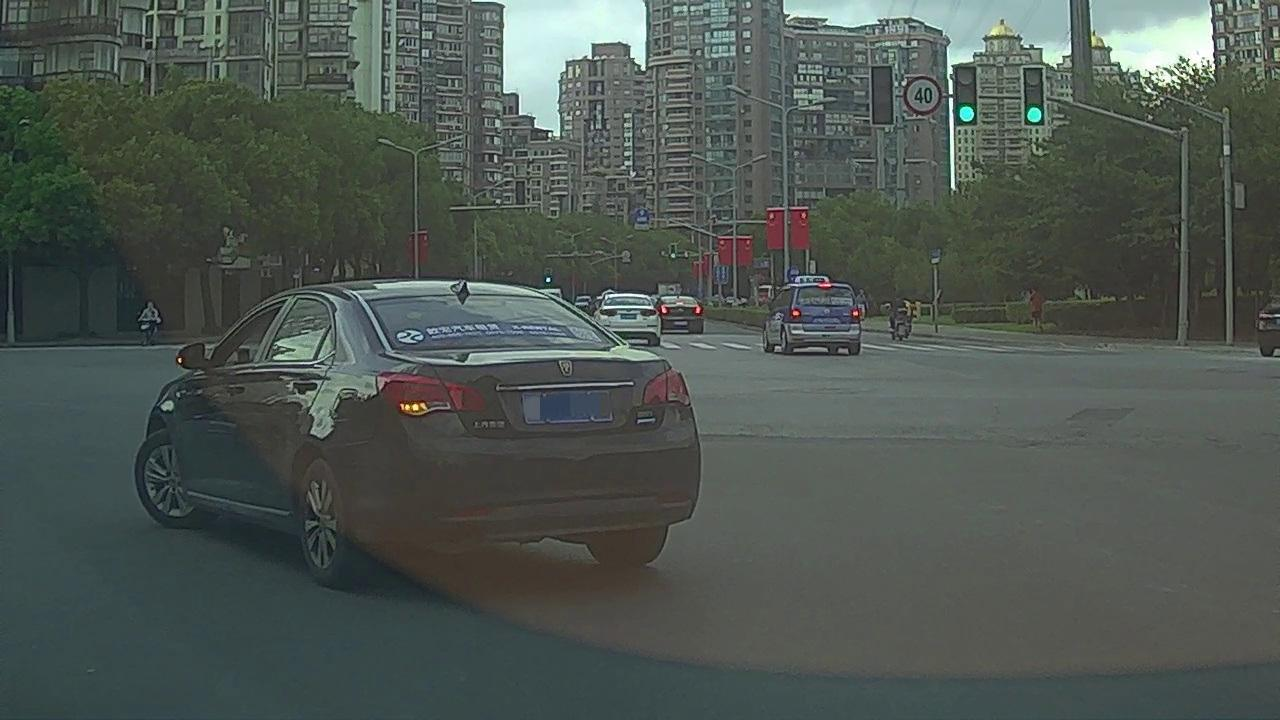traffic_light: (871, 65, 894, 125), (954, 64, 976, 124), (1023, 69, 1045, 127)
